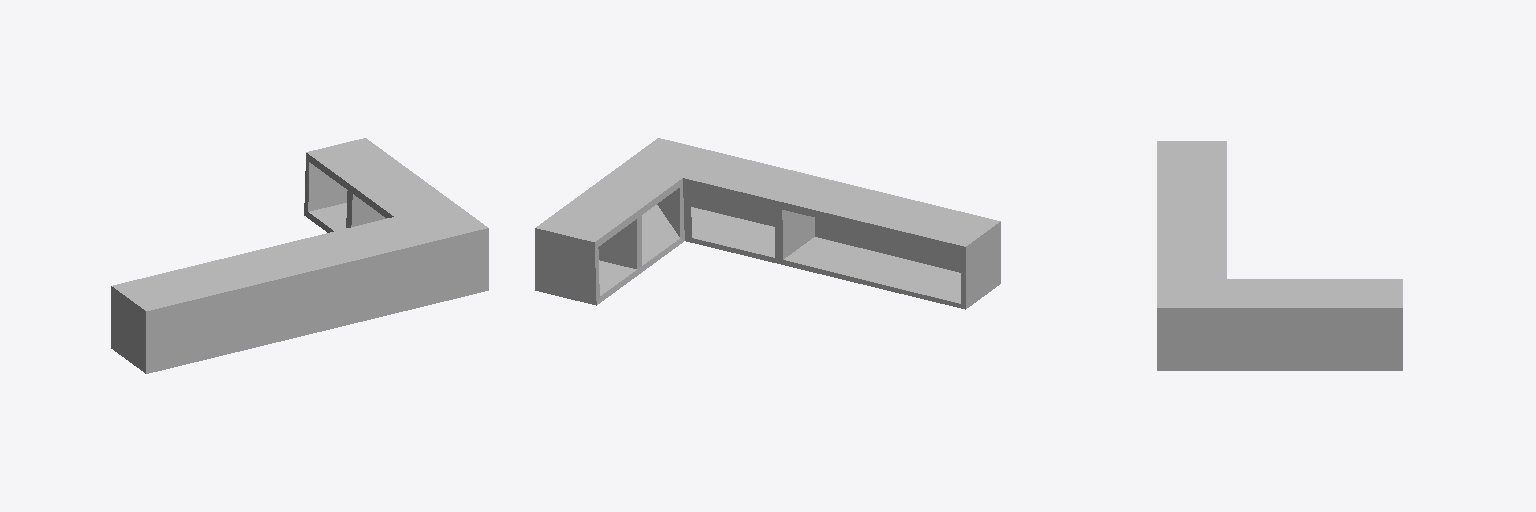
Rendered from overhead_cupboard_2.obj.
3 views of the same model, side by side, from view 1: azimuth 30°, elevation 25°; view 2: azimuth 150°, elevation 25°; view 3: azimuth 270°, elevation 25° (orthographic).
Parts seen in each view (by area): view 1: cupboard overhead_cupboard_2; view 2: cupboard overhead_cupboard_2; view 3: cupboard overhead_cupboard_2.
Part boxes in pixels (bbox=[...]): cupboard overhead_cupboard_2: bbox=[111, 138, 488, 373]; cupboard overhead_cupboard_2: bbox=[535, 138, 1000, 309]; cupboard overhead_cupboard_2: bbox=[1157, 141, 1402, 370].
Size of the model in its own units: 36.2 by 6.33 by 22.56.